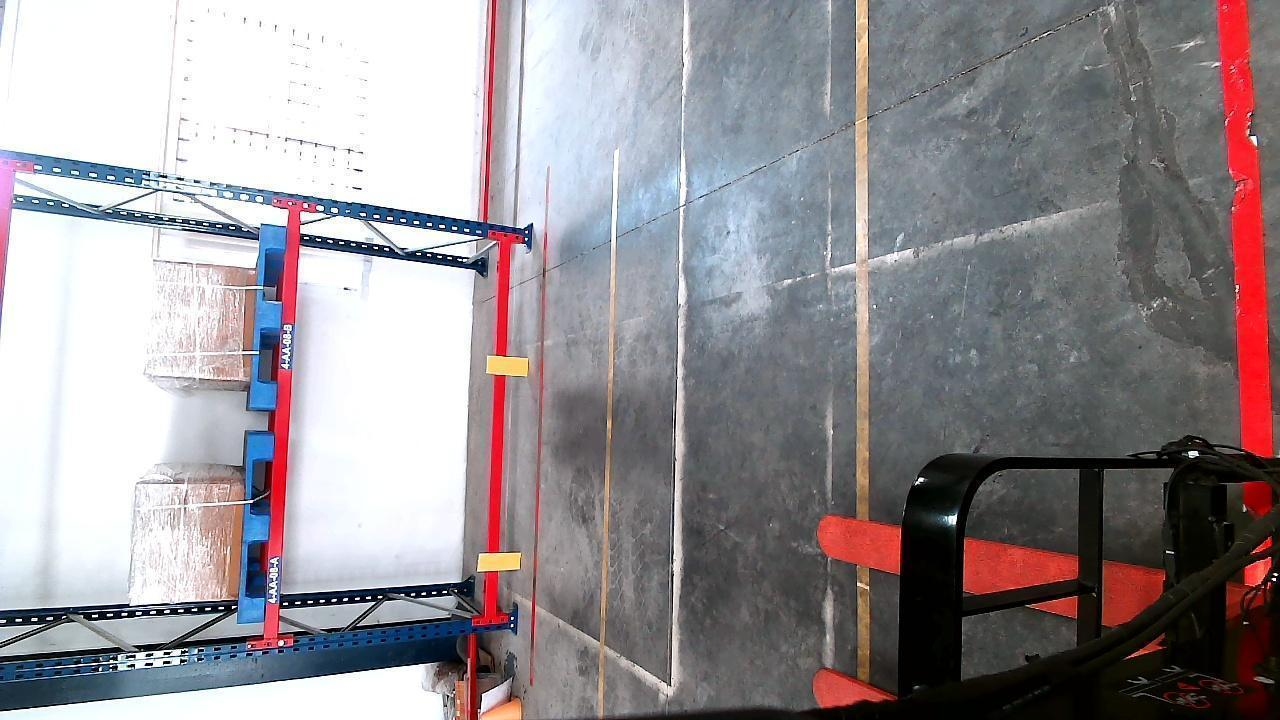red_line: (1219, 0, 1280, 458), (524, 159, 552, 682)
yellow_line: (593, 144, 622, 720), (852, 0, 874, 684)
